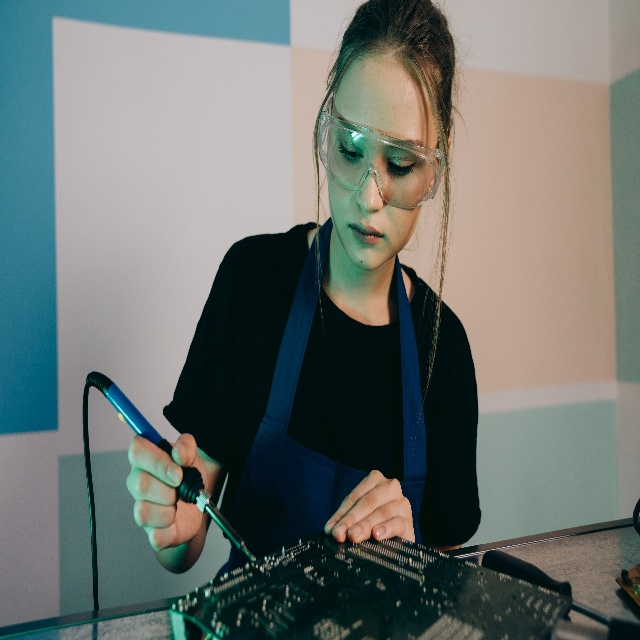Gafas: (317, 102, 444, 215)
Sin_guantes: (125, 430, 209, 545), (321, 465, 414, 548)
